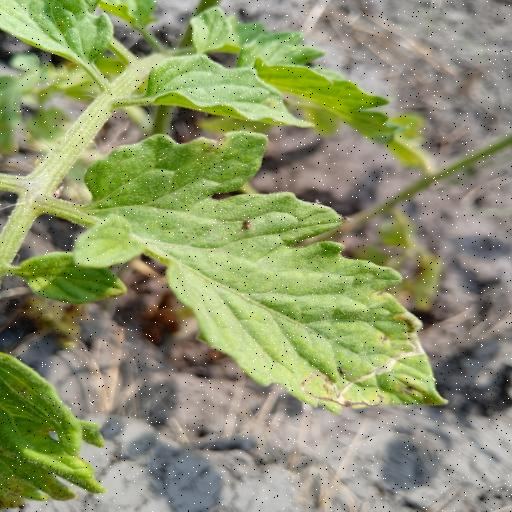Tomato_Brown_Spots: (66, 129, 456, 423)
